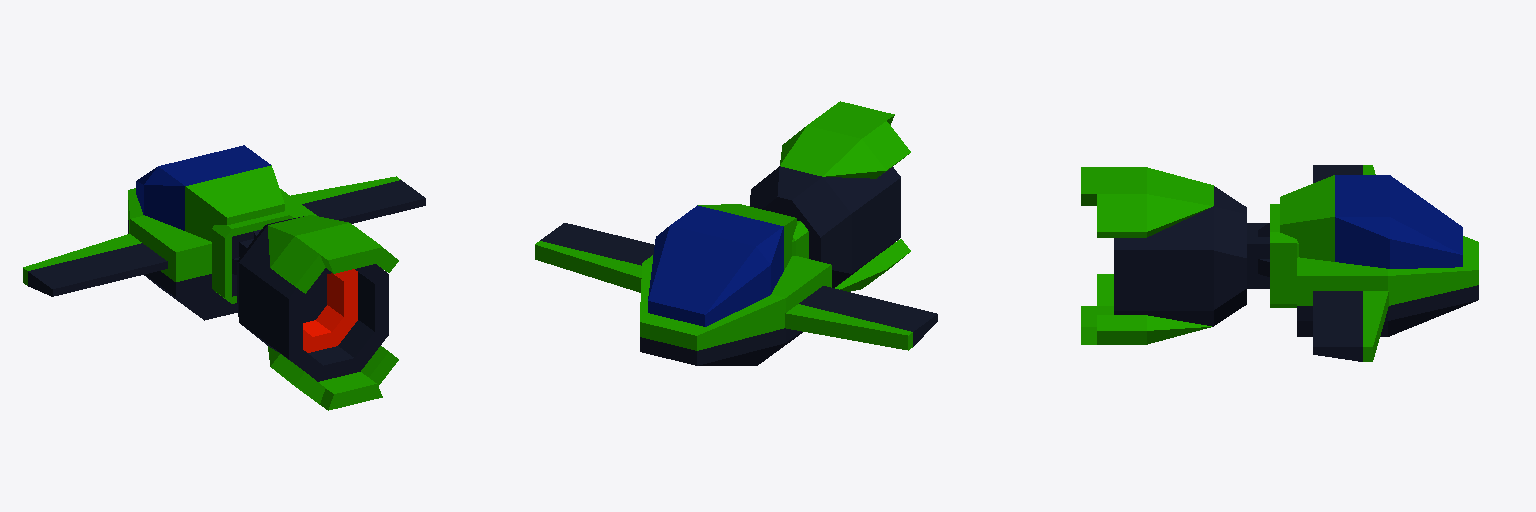
Rendered from Spaw.obj.
The picture shows the model from 3 angles: view 1: azimuth 30°, elevation 25°; view 2: azimuth 150°, elevation 25°; view 3: azimuth 270°, elevation 25°; orthographic projection.
Parts seen in each view (by area): view 1: mergedBlocks; view 2: mergedBlocks; view 3: mergedBlocks.
Part boxes in pixels (left/top/right/bottom): mergedBlocks: left=23, top=145, right=425, bottom=410; mergedBlocks: left=535, top=101, right=937, bottom=365; mergedBlocks: left=1081, top=165, right=1478, bottom=361.
Size of the model in its own units: 2.6 by 1 by 2.4.